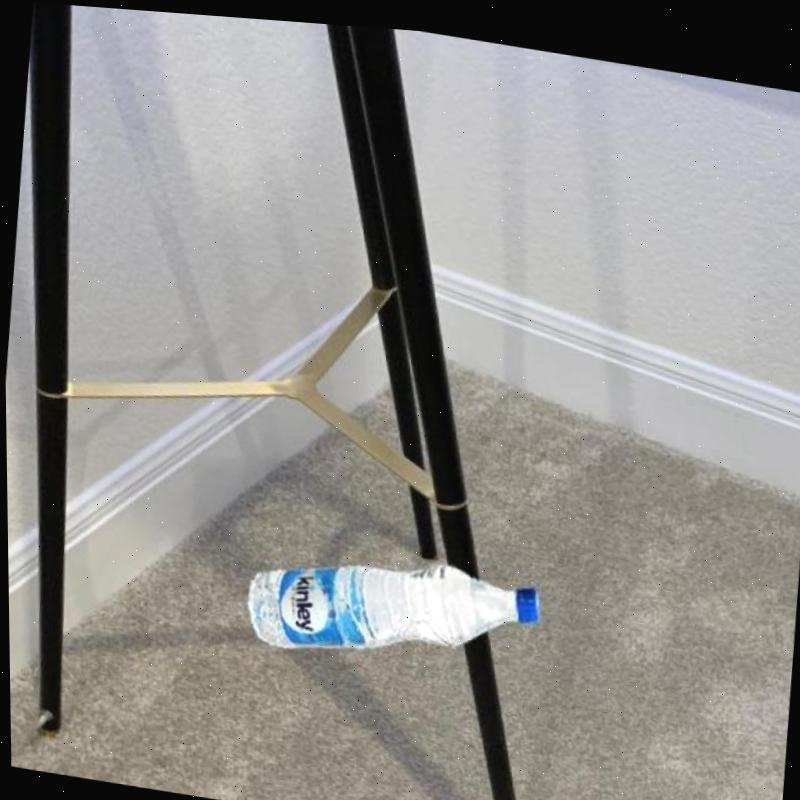botella: (242, 527, 545, 681)
